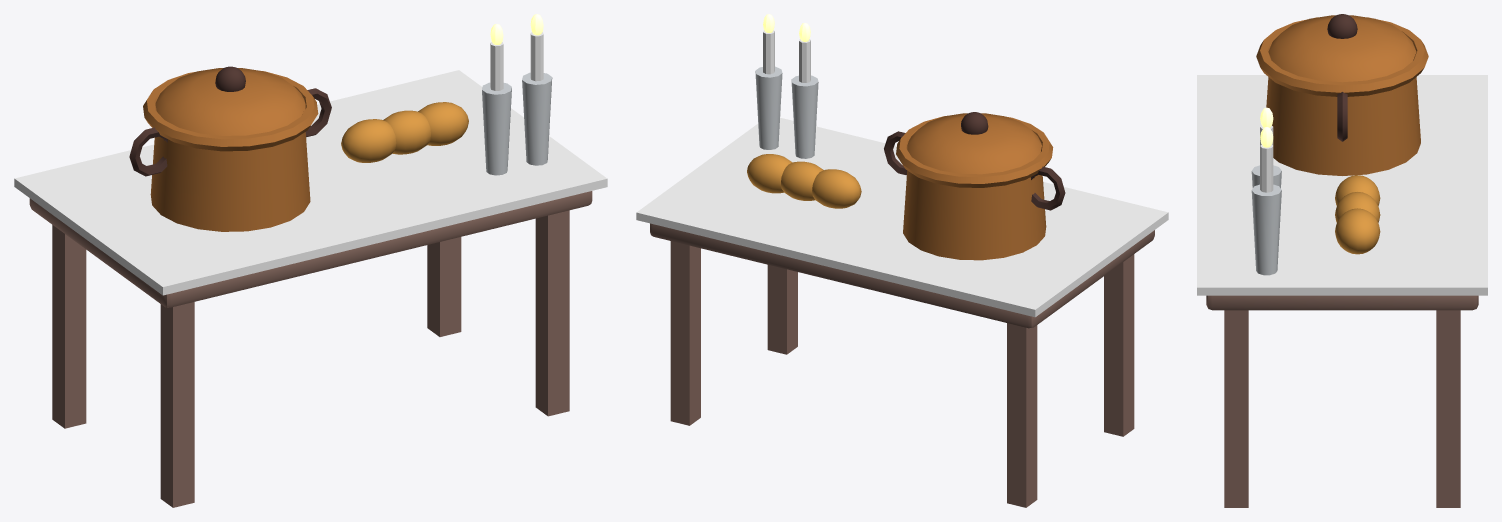
Rendered from journey_cholent.glb.
3 views of the same model, side by side, from view 1: azimuth 30°, elevation 25°; view 2: azimuth 150°, elevation 25°; view 3: azimuth 270°, elevation 25° (orthographic). The views are drawn at different scales.
Parts seen in each view (by area): view 1: Cholent_body; view 2: Cholent_body; view 3: Cholent_body.
Part boxes in pixels (bbox=[...]): Cholent_body: bbox=[14, 14, 607, 507]; Cholent_body: bbox=[636, 14, 1168, 507]; Cholent_body: bbox=[1197, 14, 1487, 507].
Bounding box in the file's own units: 1.66 × 1.37 × 0.96.
